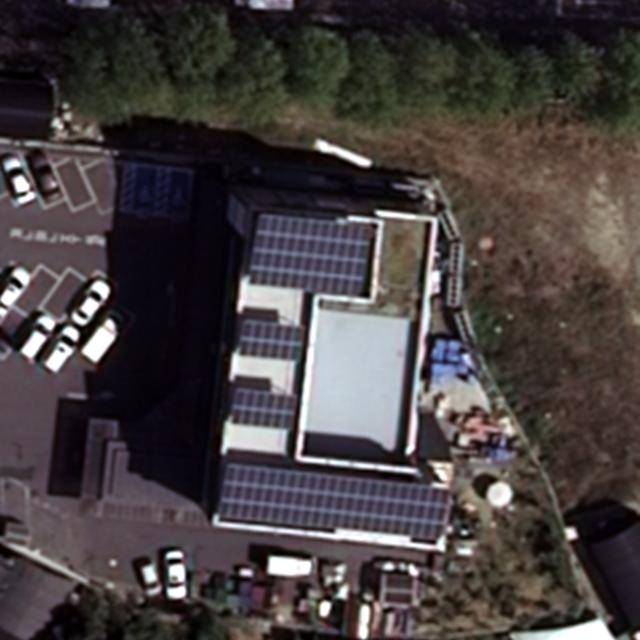solarpanel: (213, 462, 454, 542), (247, 211, 374, 297), (227, 387, 301, 431), (237, 318, 308, 363)
